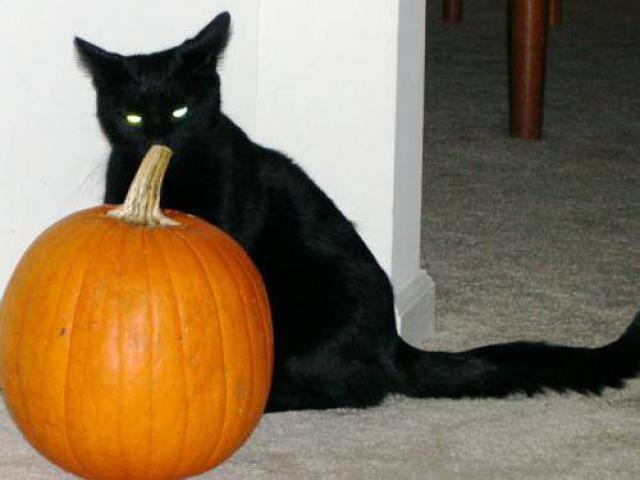cat: (62, 16, 624, 417)
